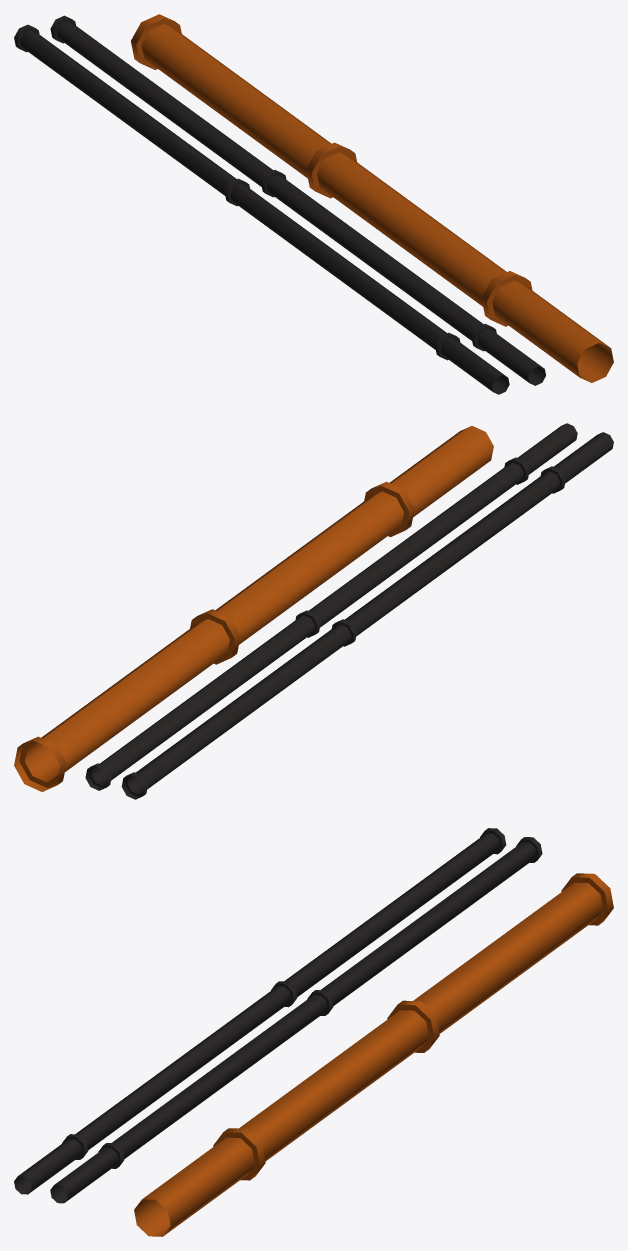
Rendered from SM_H_Building_Tide_MedicalRoom_26A_ATLAS.fbx.
3 views of the same model, one above another, from view 1: azimuth 30°, elevation 25°; view 2: azimuth 150°, elevation 25°; view 3: azimuth 330°, elevation 25° (orthographic).
Parts seen in each view (by area): view 1: SM_H_Building_Tide_MedicalRoom_26A_ATLAS; view 2: SM_H_Building_Tide_MedicalRoom_26A_ATLAS; view 3: SM_H_Building_Tide_MedicalRoom_26A_ATLAS.
Boxes of the visible parts, bbox=[...] form: SM_H_Building_Tide_MedicalRoom_26A_ATLAS: bbox=[14, 14, 613, 394]; SM_H_Building_Tide_MedicalRoom_26A_ATLAS: bbox=[14, 423, 613, 799]; SM_H_Building_Tide_MedicalRoom_26A_ATLAS: bbox=[14, 828, 613, 1236].
Bounding box in the file's own units: 73.9 × 411 × 26.48.
